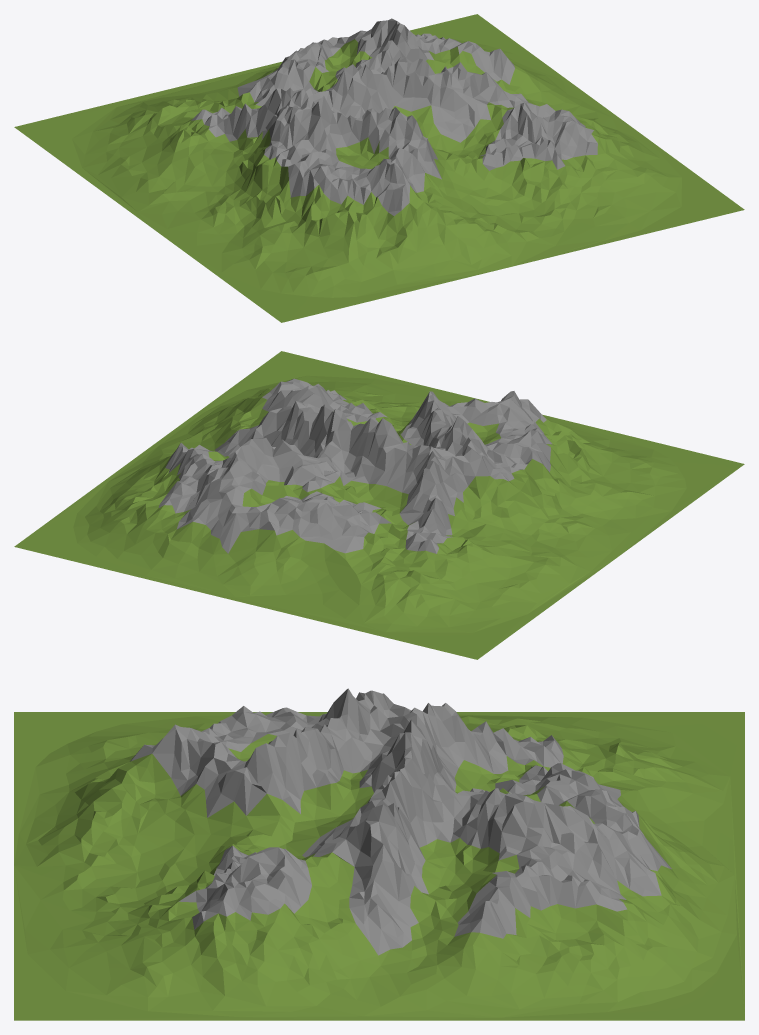
Rendered from Landscape_01.fbx.
3 views of the same model, one above another, from view 1: azimuth 30°, elevation 25°; view 2: azimuth 150°, elevation 25°; view 3: azimuth 270°, elevation 25° (orthographic). The views are drawn at different scales.
Parts seen in each view (by area): view 1: Landscape_01; view 2: Landscape_01; view 3: Landscape_01.
Part boxes in pixels (<box>): Landscape_01: <box>14,14,744,322</box>; Landscape_01: <box>14,351,744,659</box>; Landscape_01: <box>14,688,744,1020</box>.
Bounding box in the file's own units: 10000 × 2055 × 10000.
